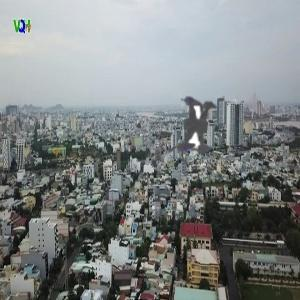drone: (128, 53, 270, 195)
